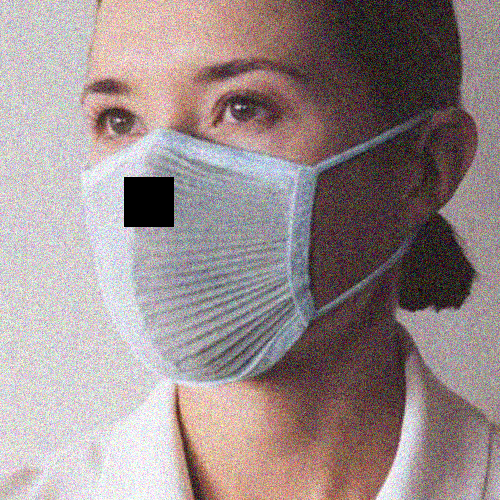with_mask: (78, 49, 395, 386)
